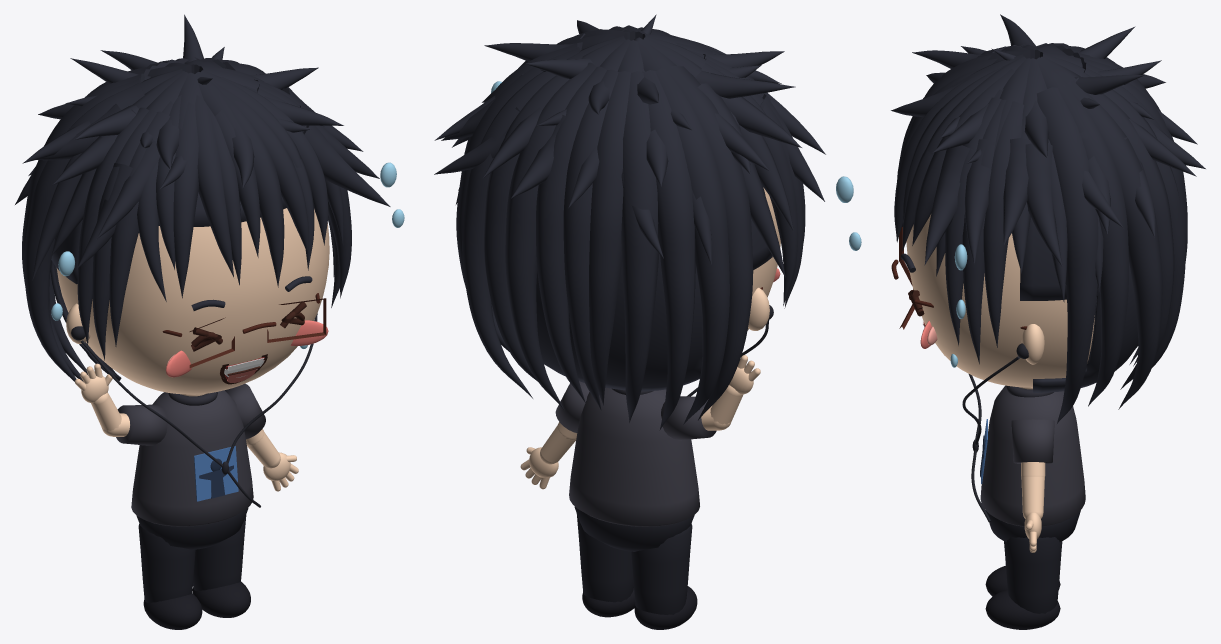
Rendered from kyle.glb.
3 views of the same model, side by side, from view 1: azimuth 30°, elevation 25°; view 2: azimuth 150°, elevation 25°; view 3: azimuth 270°, elevation 25° (orthographic). The views are drawn at different scales.
Parts seen in each view (by area): view 1: HairStrands, HeadSkin, Shirt, PantR, PantL, Hip, HairCap, SleeveR, ShoeR, ShoeL, ShirtPrint_noline, SleeveL (+6 smaller); view 2: HairStrands, Shirt, HairCap, PantR, PantL, Hip, SleeveR, ShoeR, SleeveL, HandL, HeadSkin, ShoeL (+4 smaller); view 3: HairStrands, HeadSkin, Shirt, HairCap, PantL, SleeveL, ShoeL, Hip, ForearmL, EarL, HandL, ShoeR.
Boxes of the visible parts, left/top/right/bottom form: HairStrands: left=15, top=14, right=390, bottom=381; HeadSkin: left=56, top=208, right=329, bottom=394; Shirt: left=131, top=390, right=253, bottom=526; PantR: left=138, top=524, right=195, bottom=602; PantL: left=193, top=515, right=246, bottom=590; Hip: left=136, top=508, right=248, bottom=549; HairCap: left=50, top=192, right=286, bottom=380; SleeveR: left=116, top=404, right=167, bottom=445; ShoeR: left=143, top=593, right=202, bottom=629; ShoeL: left=192, top=581, right=250, bottom=617; ShirtPrint_noline: left=194, top=446, right=238, bottom=501; SleeveL: left=225, top=383, right=265, bottom=439; HairStrands: left=434, top=14, right=825, bottom=430; Shirt: left=569, top=387, right=699, bottom=526; HairCap: left=536, top=186, right=772, bottom=391; PantR: left=631, top=523, right=692, bottom=614; PantL: left=576, top=513, right=633, bottom=602; Hip: left=574, top=506, right=694, bottom=551; SleeveR: left=661, top=396, right=716, bottom=440; ShoeR: left=634, top=586, right=697, bottom=629; SleeveL: left=555, top=381, right=589, bottom=432; HandL: left=520, top=447, right=558, bottom=489; HeadSkin: left=747, top=187, right=780, bottom=330; ShoeL: left=582, top=588, right=635, bottom=617; HairStrands: left=891, top=14, right=1205, bottom=423; HeadSkin: left=906, top=214, right=1094, bottom=387; Shirt: left=980, top=385, right=1085, bottom=526; HairCap: left=1020, top=217, right=1138, bottom=392; PantL: left=1004, top=537, right=1062, bottom=613; SleeveL: left=1011, top=419, right=1054, bottom=463; ShoeL: left=985, top=589, right=1060, bottom=629; Hip: left=985, top=510, right=1080, bottom=541; ForearmL: left=1021, top=476, right=1044, bottom=518; EarL: left=1021, top=324, right=1044, bottom=364; HandL: left=1024, top=512, right=1041, bottom=552; ShoeR: left=985, top=565, right=1060, bottom=596.
Bounding box in the file's own units: 1.45 × 2.16 × 1.1.
